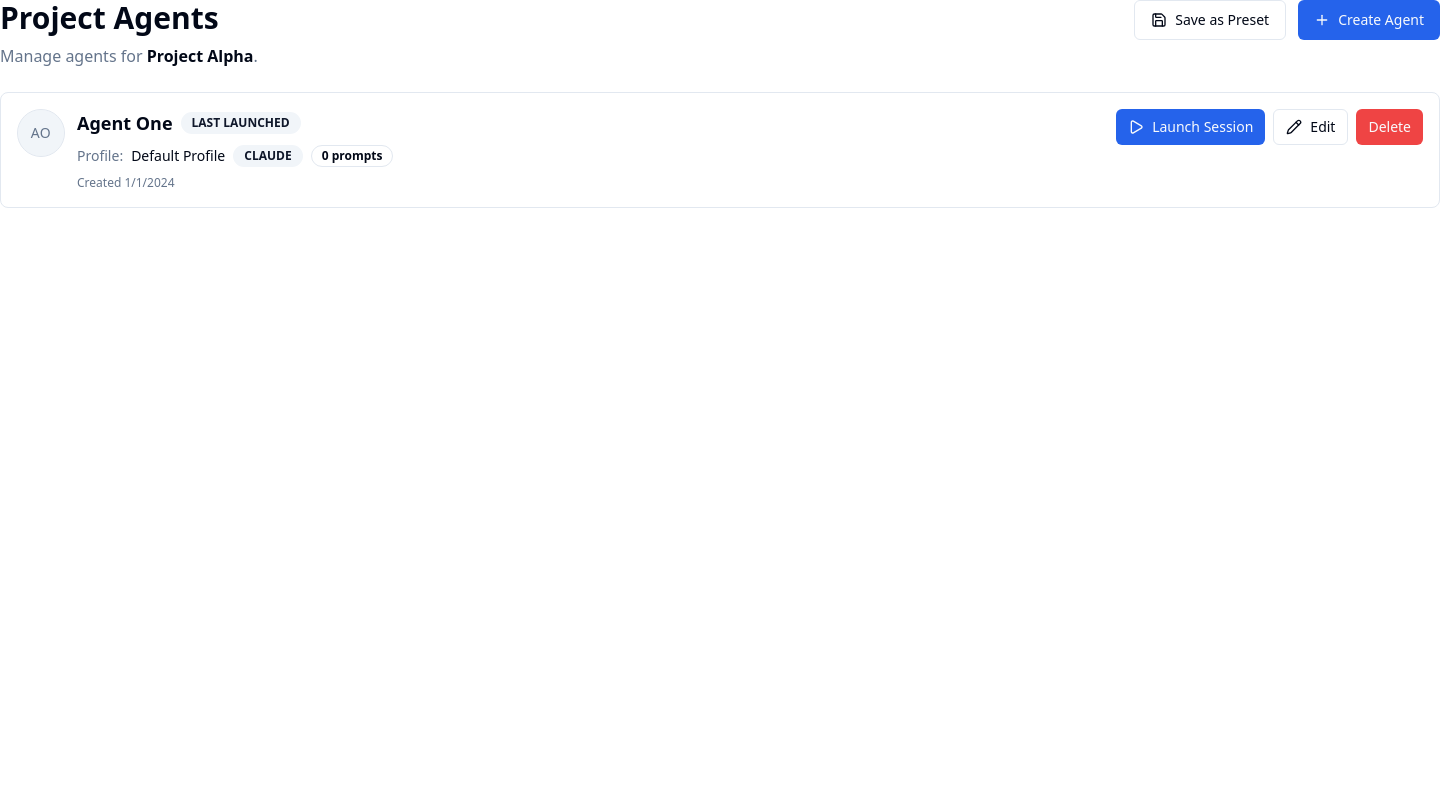
it: AgentsPage › saves edits and closes the dialog on success
Expected: the heading "Agent One" is shown, [77,109,173,137]
Click the button "Edit": click(1311, 127) [1273,109,1348,145]
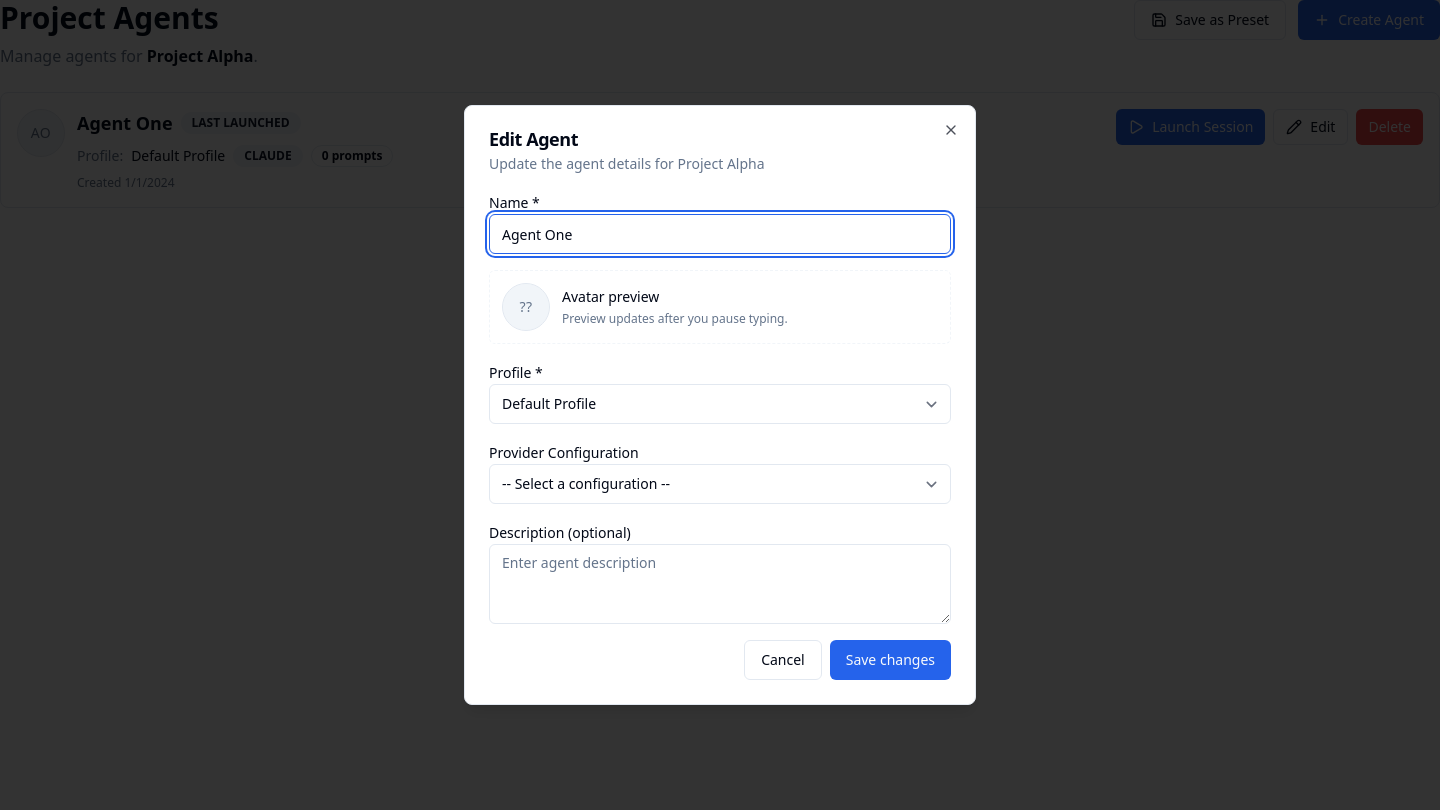
Replace the text in the field labelled "Name *" with "Agent One Updated": (720, 234) [489,214,951,254]
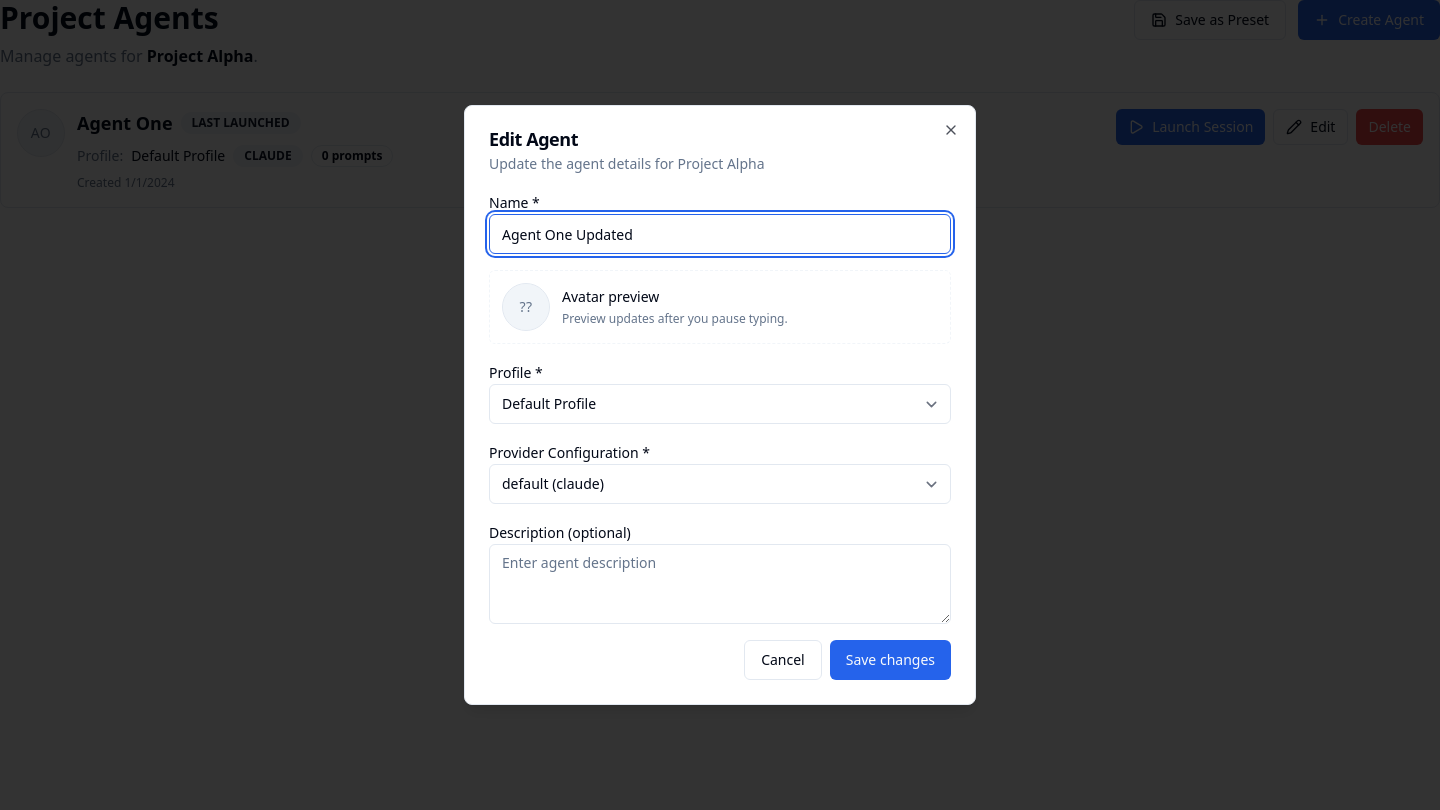
Click the button "Save changes": click(890, 660) [830,640,951,680]
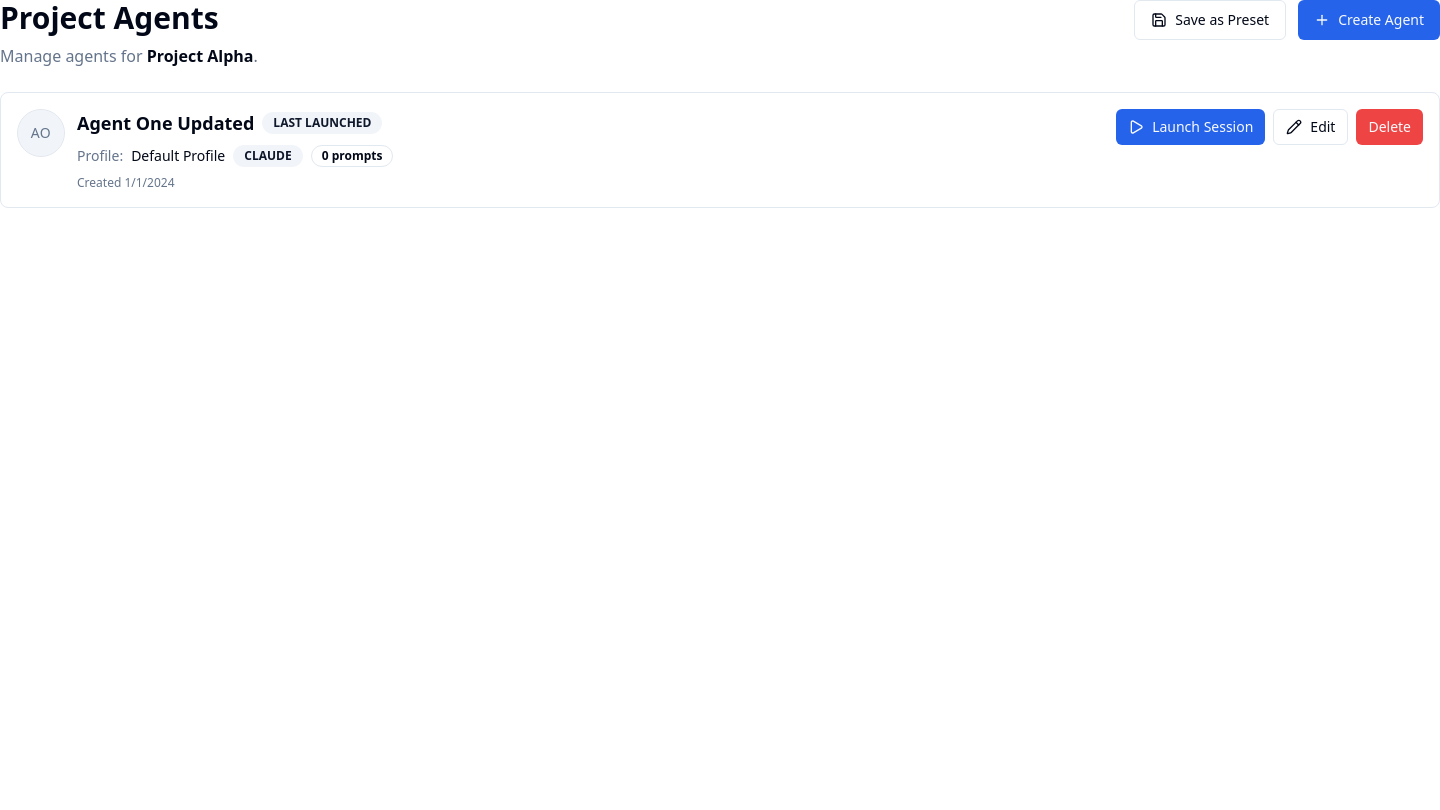
Result: the heading "Agent One Updated" is shown at [77,109,254,137]
Result: the heading "Edit Agent" is gone
